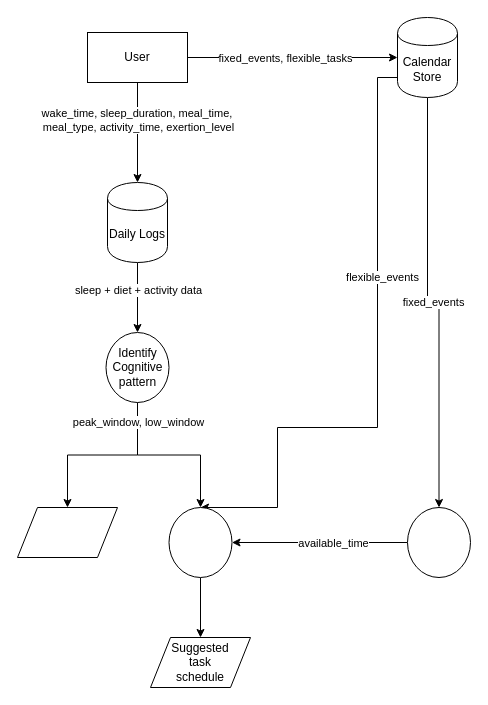
This 488x705 diagram has some shape labels left out. The centre of each missing label's shape, as x and y in pixels:
"Display peak/low windows" belongs at pixel 67 532.
"Find Available Time" belongs at pixel 438 542.
"Match Tasks to Energy" belongs at pixel 200 542.
